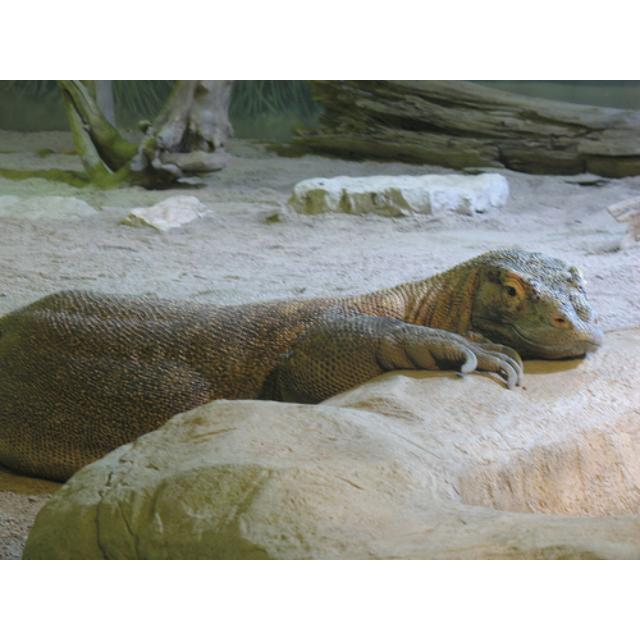KomodoDragon: (1, 247, 602, 482)
